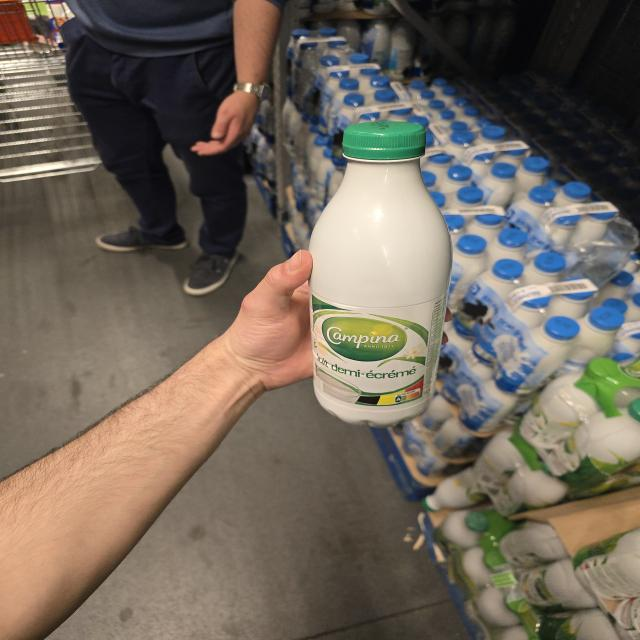Milk: (309, 121, 451, 427)
